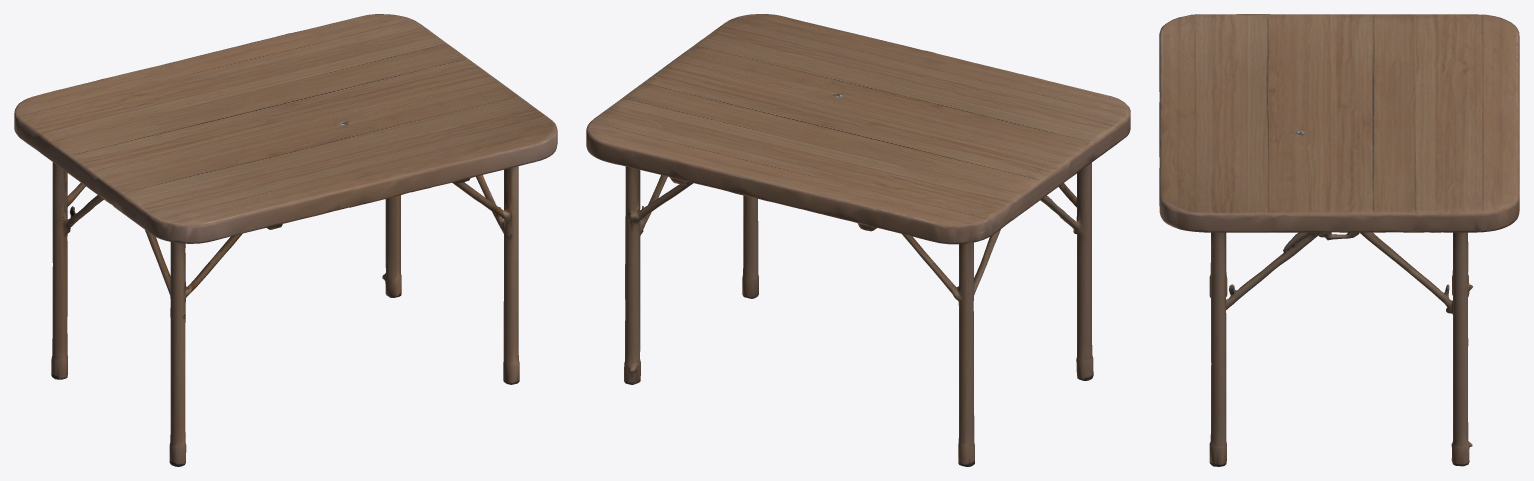
3 renders of one model, left to right at view 1: azimuth 30°, elevation 25°; view 2: azimuth 150°, elevation 25°; view 3: azimuth 270°, elevation 25°, orthographic. The views are drawn at different scales.
Parts seen in each view (by area): view 1: Mesh1.0; view 2: Mesh1.0; view 3: Mesh1.0.
Part boxes in pixels (x1,y1,x2,y2): Mesh1.0: [14, 14, 557, 466]; Mesh1.0: [586, 14, 1130, 466]; Mesh1.0: [1159, 14, 1519, 466].
Bounding box in the file's own units: 201 × 125 × 152.
Materials: 1 (1 with a texture image).
